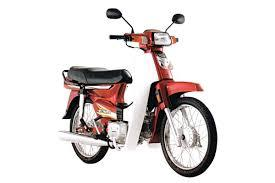motorcycle: (51, 6, 221, 179)
